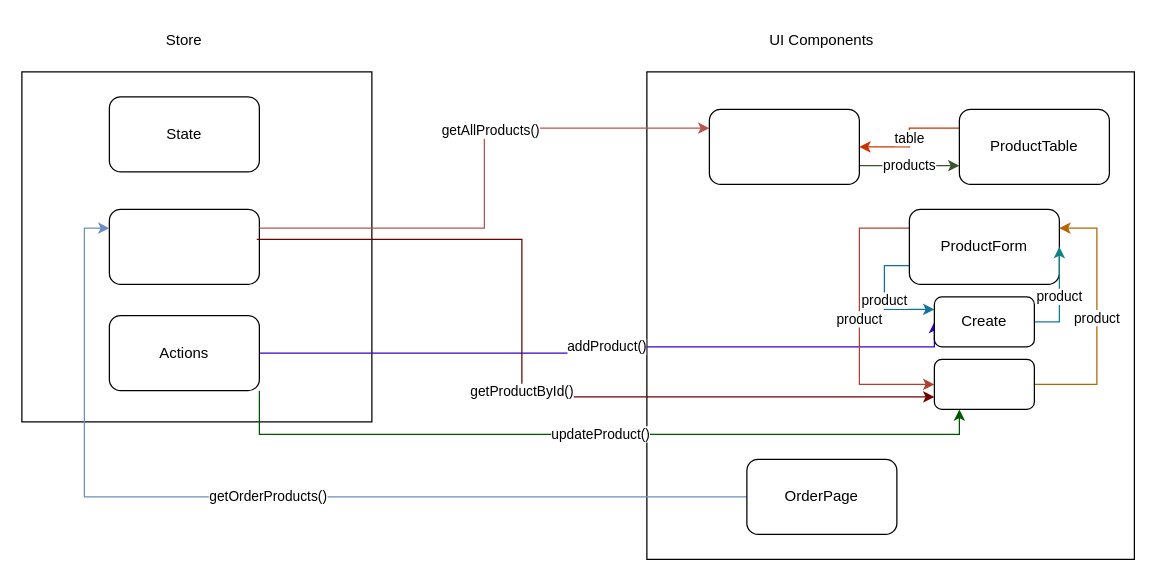
This 1156x581 diagram has some shape labels left out. Here are the shapes that lost their labels. From the top down, the centre of each, then its label:
At (x=783, y=146): "Overview".
At (x=183, y=246): "Getters".
At (x=983, y=383): "Edit".
